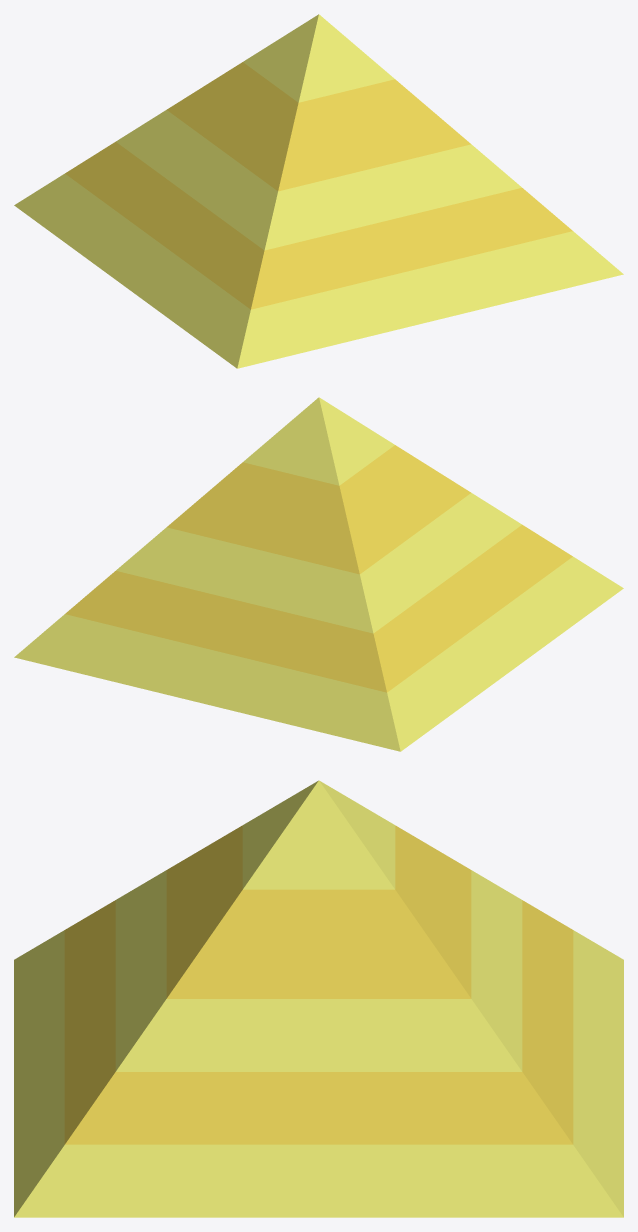
3 views of the same model, one above another, from view 1: azimuth 30°, elevation 25°; view 2: azimuth 150°, elevation 25°; view 3: azimuth 270°, elevation 25° (orthographic). The views are drawn at different scales.
Visible parts, largest first — view 1: pyramid-low; view 2: pyramid-low; view 3: pyramid-low.
Boxes of the visible parts, x1,y1,x2,y2 form: pyramid-low: [14, 14, 623, 368]; pyramid-low: [14, 397, 623, 751]; pyramid-low: [14, 780, 623, 1217].
Size of the model in its own units: 22.53 by 22.53 by 12.57.
